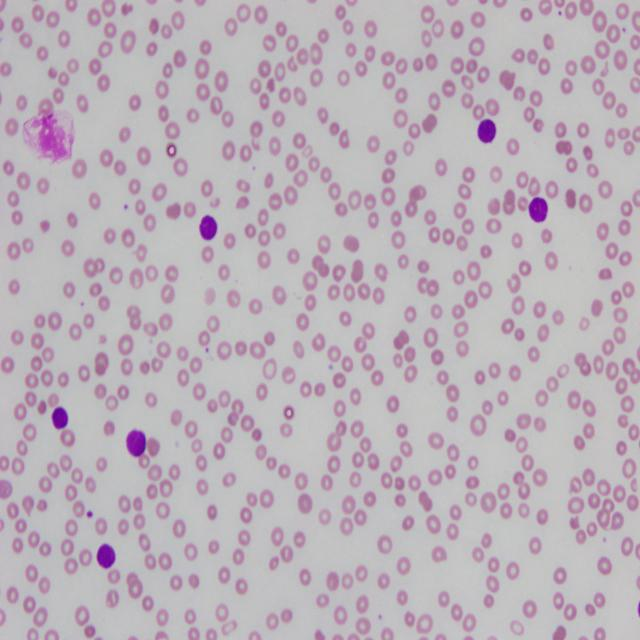cell: (126, 430, 146, 457), (529, 197, 548, 222), (96, 543, 115, 568), (478, 118, 496, 143), (200, 215, 218, 240), (51, 407, 69, 430)
